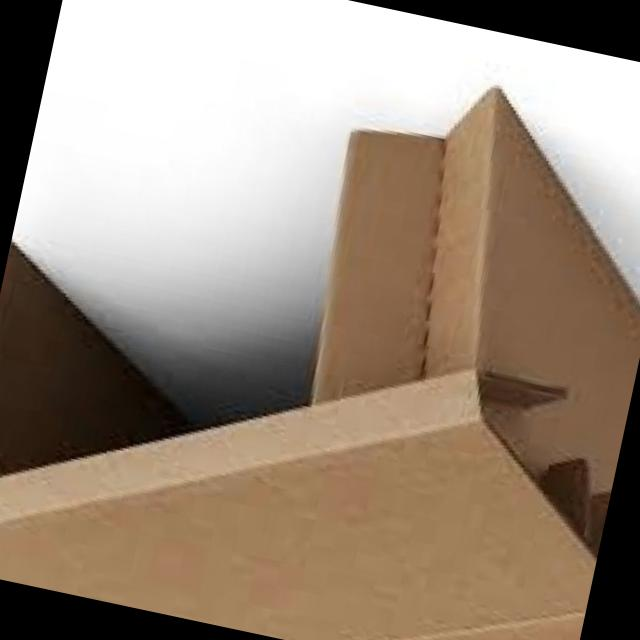cardboard paper: (0, 91, 640, 640)
